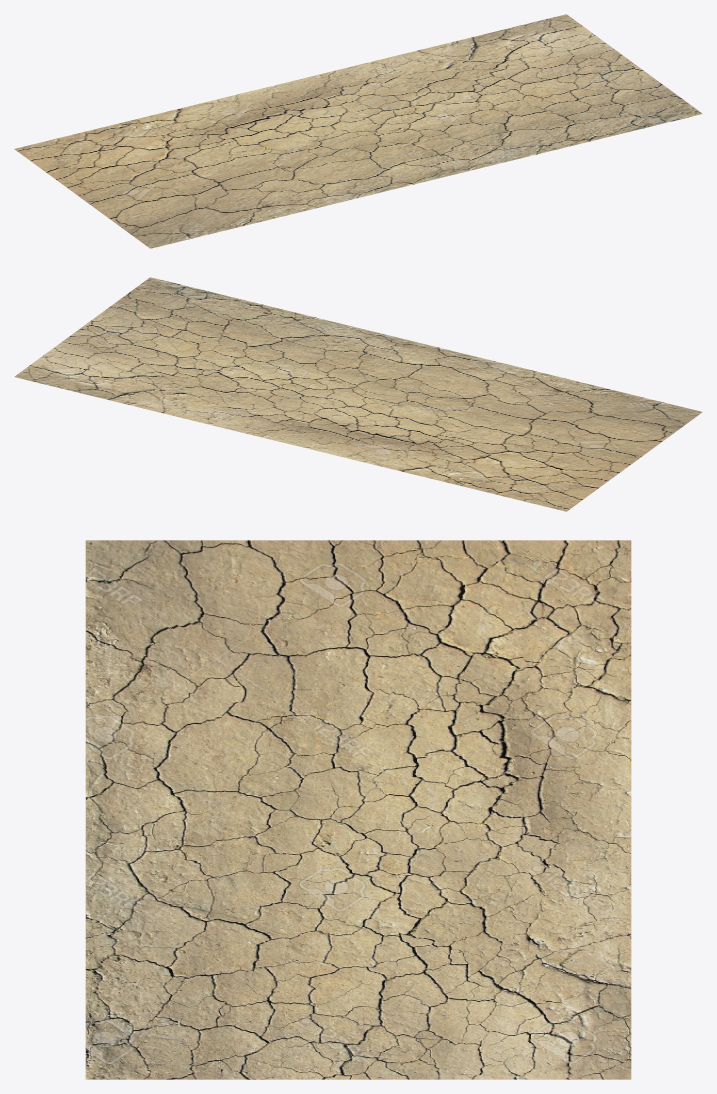
File: Level3.fbx
The picture shows the model from 3 angles, top to bottom: view 1: azimuth 30°, elevation 25°; view 2: azimuth 150°, elevation 25°; view 3: azimuth 270°, elevation 25°; orthographic projection. The views are drawn at different scales.
Parts seen in each view (by area): view 1: Plane001; view 2: Plane001; view 3: Plane001.
Part boxes in pixels (left/top/right/bottom): Plane001: left=14, top=14, right=702, bottom=248; Plane001: left=14, top=277, right=702, bottom=511; Plane001: left=85, top=540, right=631, bottom=1079.
Bounding box in the file's own units: 16.68 × 4.37e-16 × 7.13.
1 material, 1 textured.
